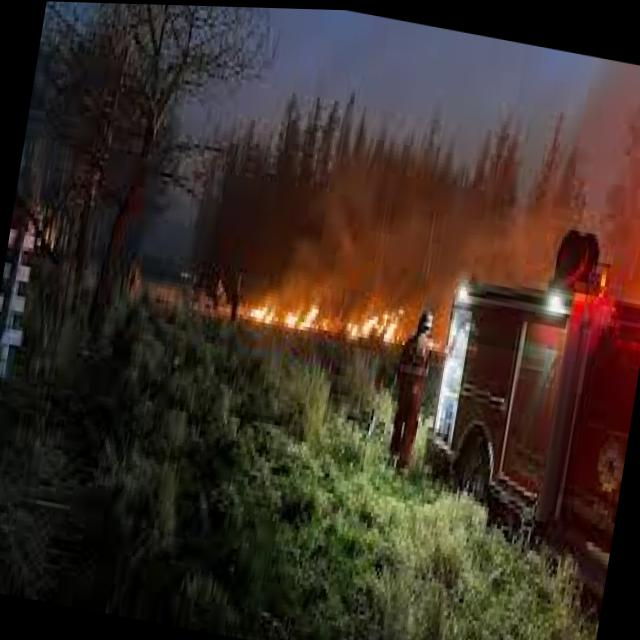Fire: (204, 257, 453, 366)
